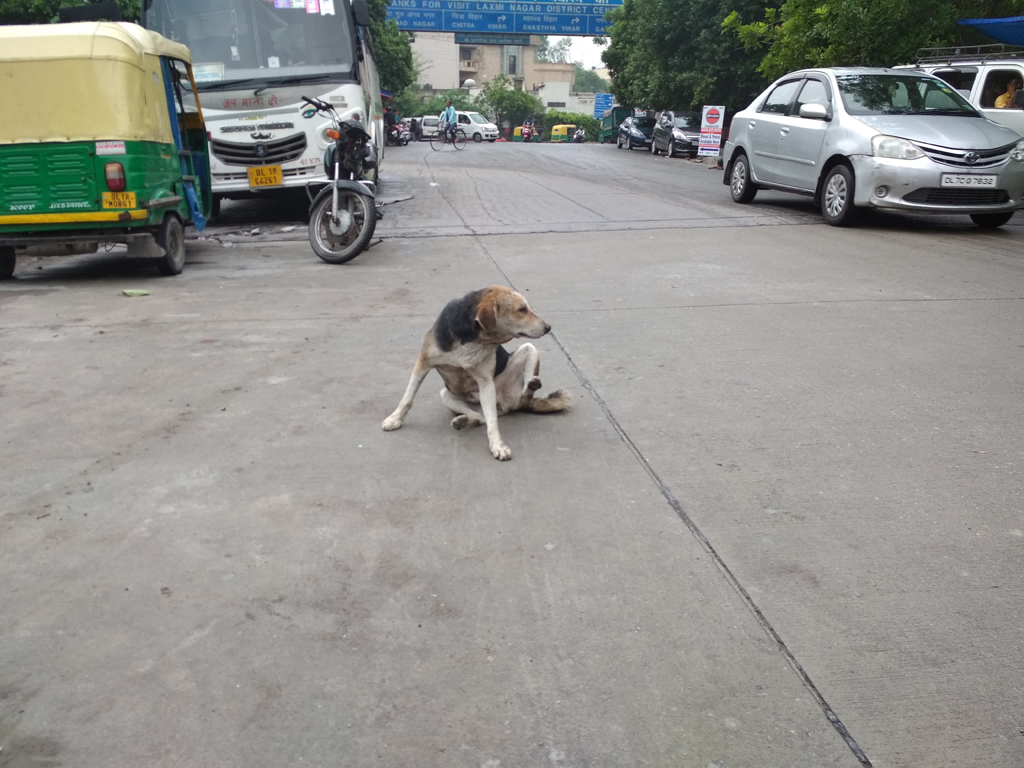dog: (381, 286, 574, 459)
